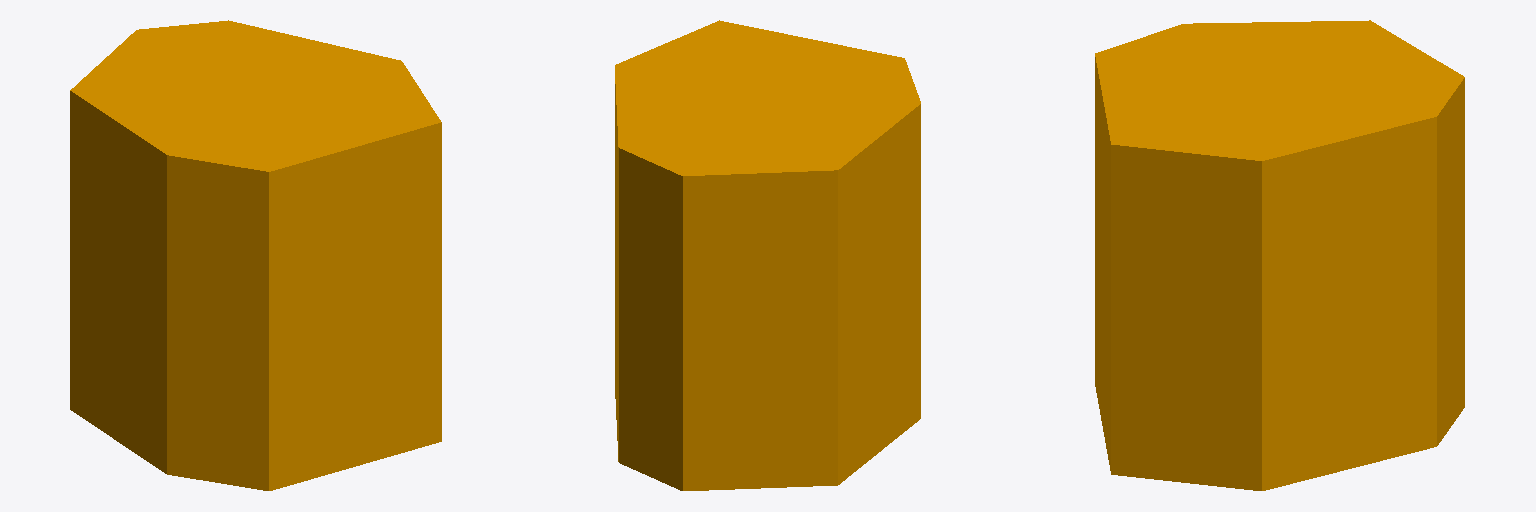
URDF robot description (object):
<?xml version="1.0"?>
<robot name="object">
  <link name="object">
    <visual>
      <origin xyz="0 0 0"/>
      <geometry>
        <mesh filename="meshes/generated/col_081.obj" scale="0.03 0.03 0.03"/>
      </geometry>
    </visual>
    <collision>
      <origin xyz="0 0 0"/>
      <geometry>
        <mesh filename="meshes/generated/col_081.obj" scale="0.03 0.03 0.03"/>
      </geometry>
    </collision>
    <inertial>
      <density value="1000.0"/>
    </inertial>
  </link>
</robot>

--- Render facts (derived) ---
The picture shows the robot from 3 angles, left to right: view 1: azimuth 30°, elevation 25°; view 2: azimuth 150°, elevation 25°; view 3: azimuth 270°, elevation 25°; orthographic projection.
Model object with 1 links and 0 joints (none), rooted at object, posed every joint at zero.
Visible links, largest first — view 1: object; view 2: object; view 3: object.
Boxes of the visible links, x1=… form: object: x1=70, y1=20, x2=441, y2=490; object: x1=615, y1=20, x2=920, y2=490; object: x1=1095, y1=20, x2=1464, y2=490.
Size in the robot's own frame: 0.0549 by 0.061 by 0.06 metres.
1 mesh visuals loaded from 1 distinct referenced files (1 OBJ).
